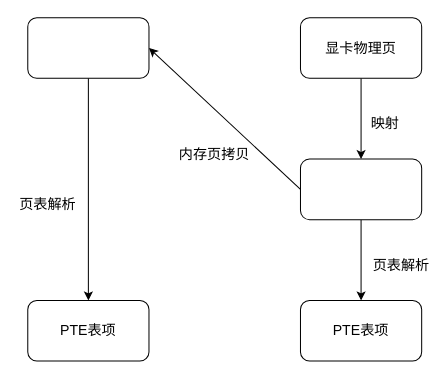
Some shapes in this 448 by 379 pixel diagram are drawn without their labels. The centre of each missing label's shape, as x and y in pixels:
"游戏保护地址" belongs at point (88, 47).
"虚拟地址" belongs at point (360, 189).
